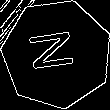N_E: (29, 30, 85, 78)
